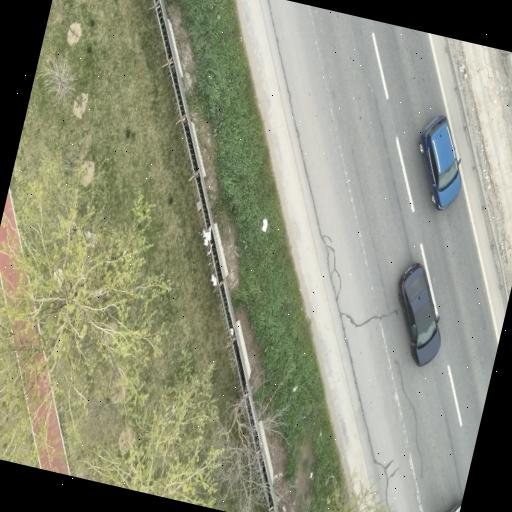car: (398, 263, 440, 366), (419, 115, 460, 208)
truck: (450, 501, 461, 511)
